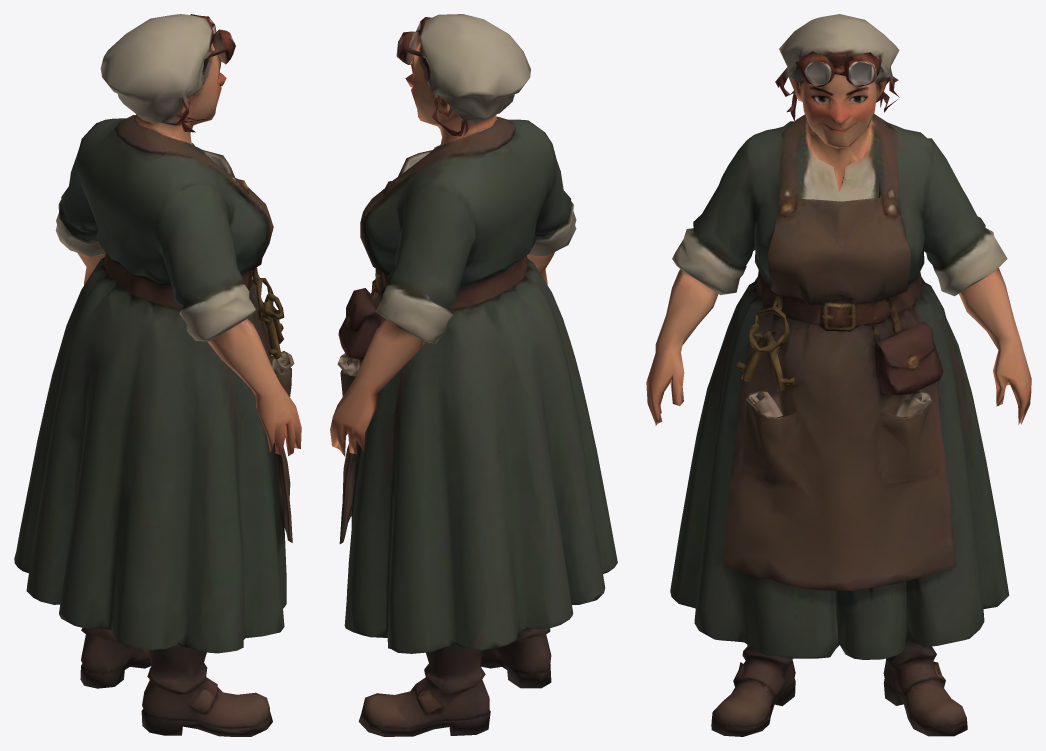
File: model-npc-ottilie-01.glb
3 renders of one model, left to right at view 1: azimuth 30°, elevation 25°; view 2: azimuth 150°, elevation 25°; view 3: azimuth 270°, elevation 25°, orthographic. The views are drawn at different scales.
Parts seen in each view (by area): view 1: tripo_node_ea24f3ac-5040-46cc-92e4-40c65300f273; view 2: tripo_node_ea24f3ac-5040-46cc-92e4-40c65300f273; view 3: tripo_node_ea24f3ac-5040-46cc-92e4-40c65300f273.
Boxes of the visible parts, x1,y1,x2,y2 form: tripo_node_ea24f3ac-5040-46cc-92e4-40c65300f273: (14,14,301,736); tripo_node_ea24f3ac-5040-46cc-92e4-40c65300f273: (330,14,617,736); tripo_node_ea24f3ac-5040-46cc-92e4-40c65300f273: (646,14,1031,736).
Bounding box in the file's own units: 0.6029 × 1.75 × 0.8758.
Materials: 1 (1 with a texture image).
